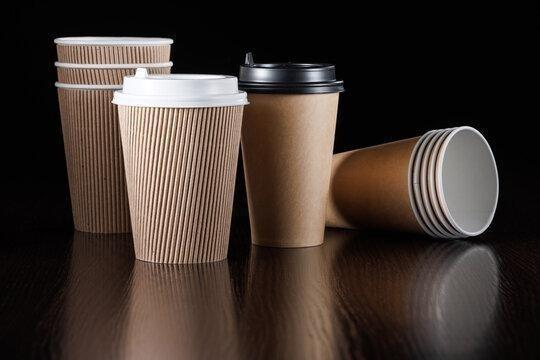cup-disposable: (111, 69, 249, 267), (50, 34, 180, 239), (235, 55, 346, 251), (334, 121, 501, 244)
